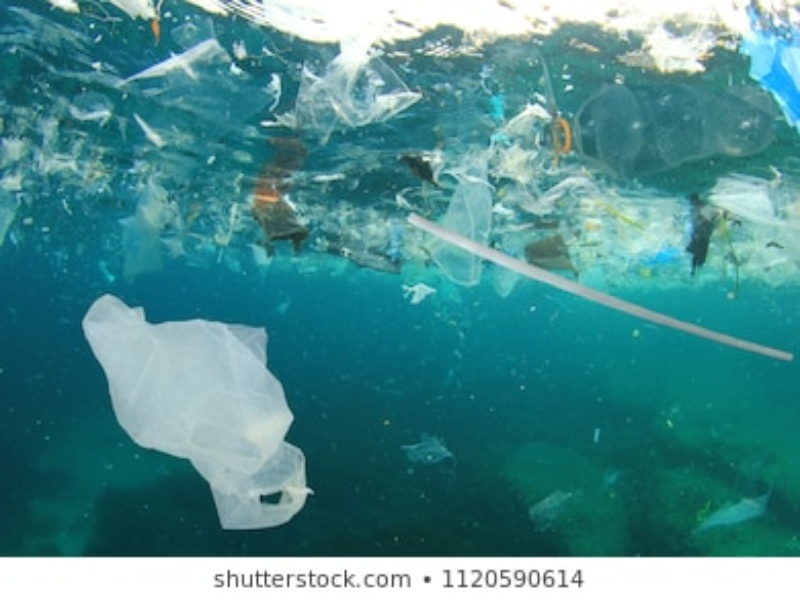plastic-bag: (80, 292, 319, 533)
straw: (406, 210, 795, 367)
